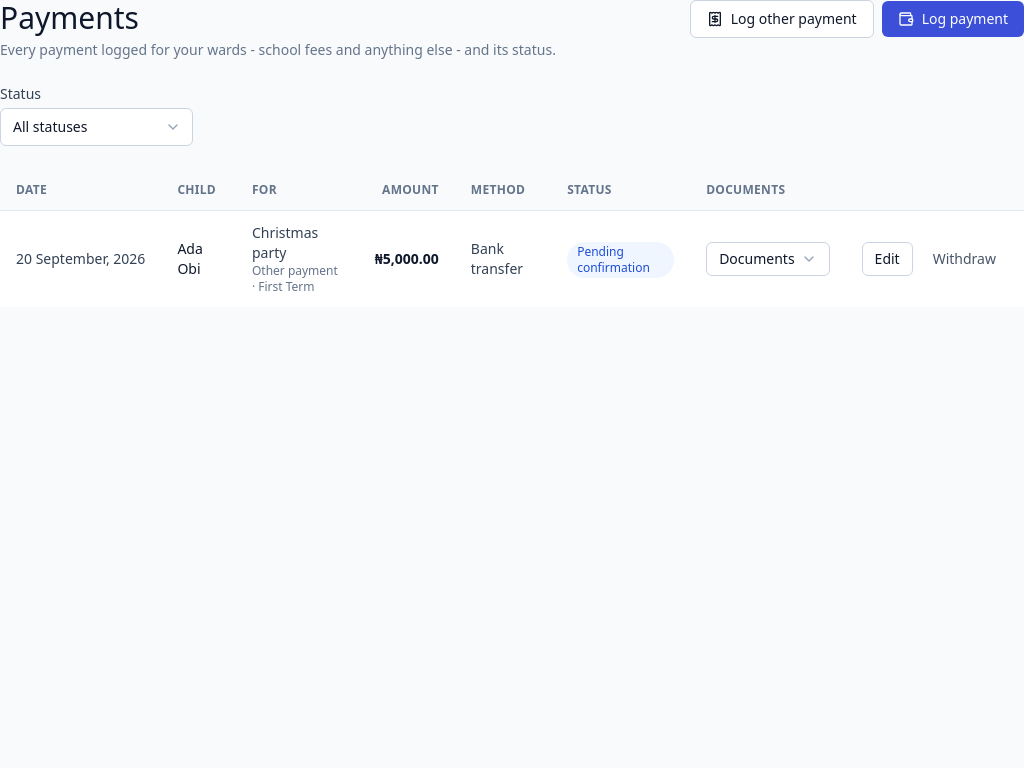
Test: WardPaymentsPage › lists an other payment with what it was for, and opens the other-payment sheet to edit it
expect the table named "Payments" is shown: met, box [0, 170, 1023, 307]
expect the text "Christmas party" is shown: met, box [252, 223, 318, 262]
Click the button "Edit".
click(887, 259)  # box [862, 242, 913, 276]
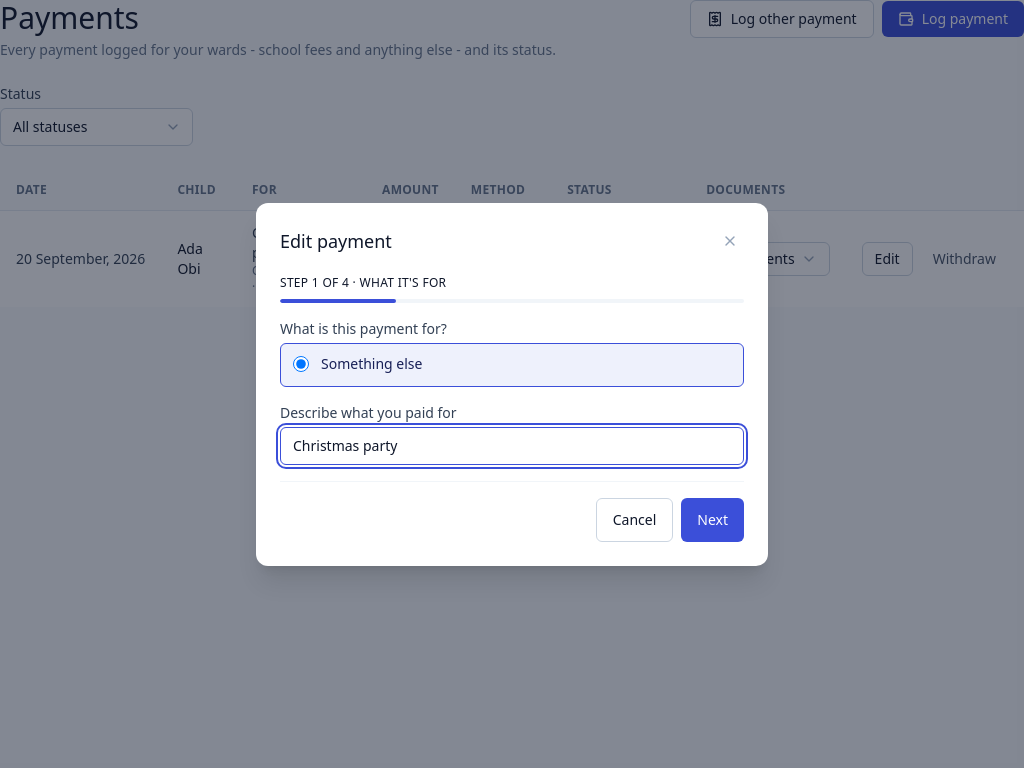
expect the field labelled "Describe what you paid for" holds "Christmas party": met, box [280, 426, 744, 464]
